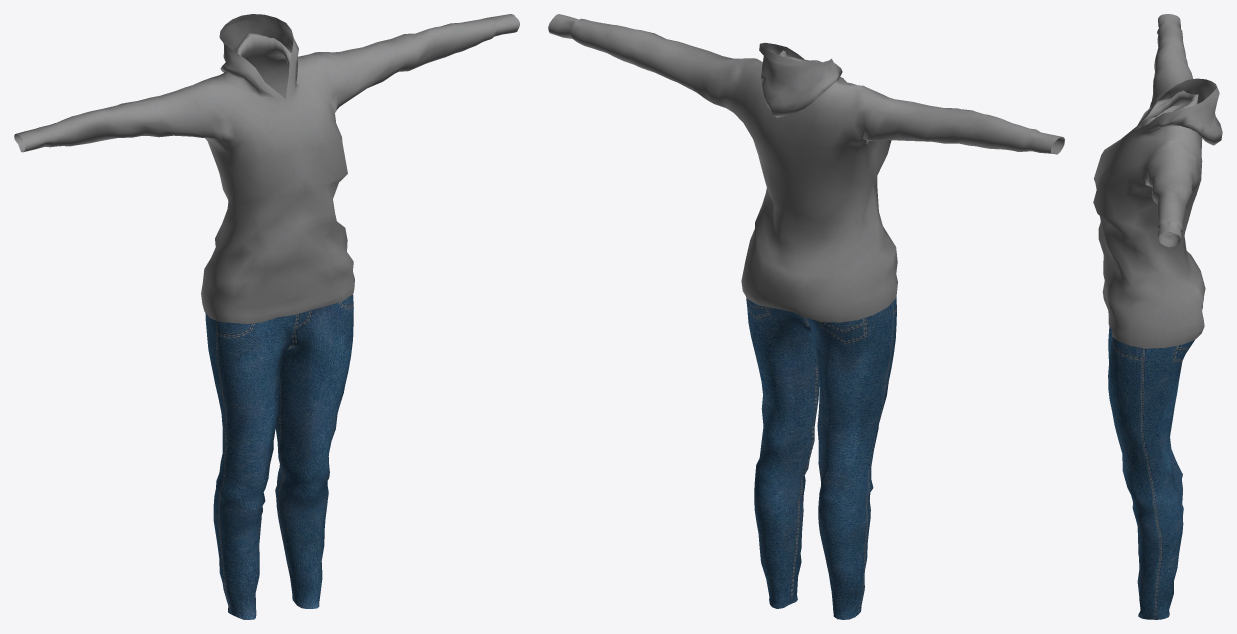
Rendered from Uniform.fbx.
3 views of the same model, side by side, from view 1: azimuth 30°, elevation 25°; view 2: azimuth 150°, elevation 25°; view 3: azimuth 270°, elevation 25° (orthographic). The views are drawn at different scales.
Parts seen in each view (by area): view 1: avaturn_look_0; view 2: avaturn_look_0; view 3: avaturn_look_0.
Part boxes in pixels (left/top/right/bottom): avaturn_look_0: left=14, top=14, right=519, bottom=619; avaturn_look_0: left=548, top=14, right=1064, bottom=619; avaturn_look_0: left=1093, top=14, right=1222, bottom=619.
Size of the model in its own units: 140 by 153 by 34.89.
Materials: 1 (1 with a texture image).
